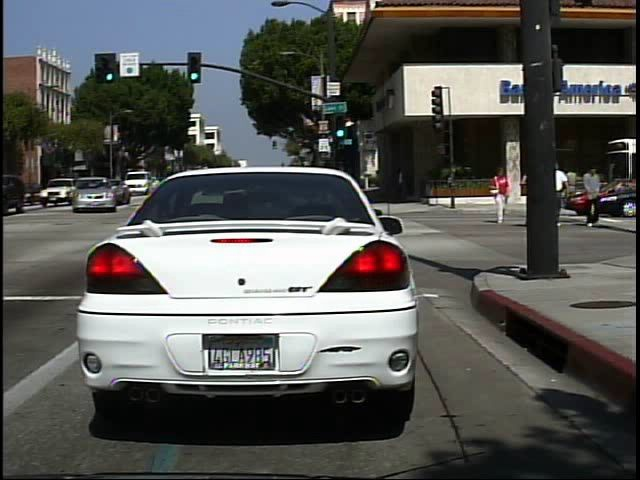person: (580, 162, 609, 231), (486, 165, 513, 227), (550, 159, 571, 229), (518, 161, 540, 227), (558, 161, 584, 214)
